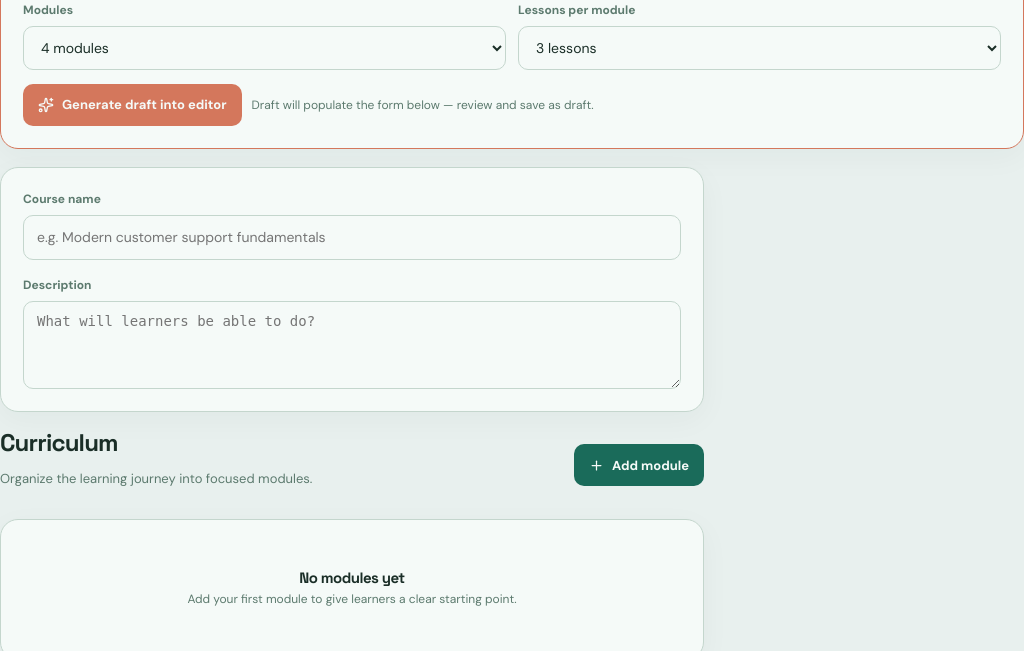
Test: CourseManagementPage › CourseEditor - save and publish › asks to save first before attaching files to a new lesson
(page scrolled)
Expected: the field with placeholder "e.g. Modern customer support fundamentals" is shown, top-left (23, 215), bottom-right (681, 260)
Click the button "Add module".
click(639, 465)  # box top-left (574, 444), bottom-right (704, 486)
(page scrolled)
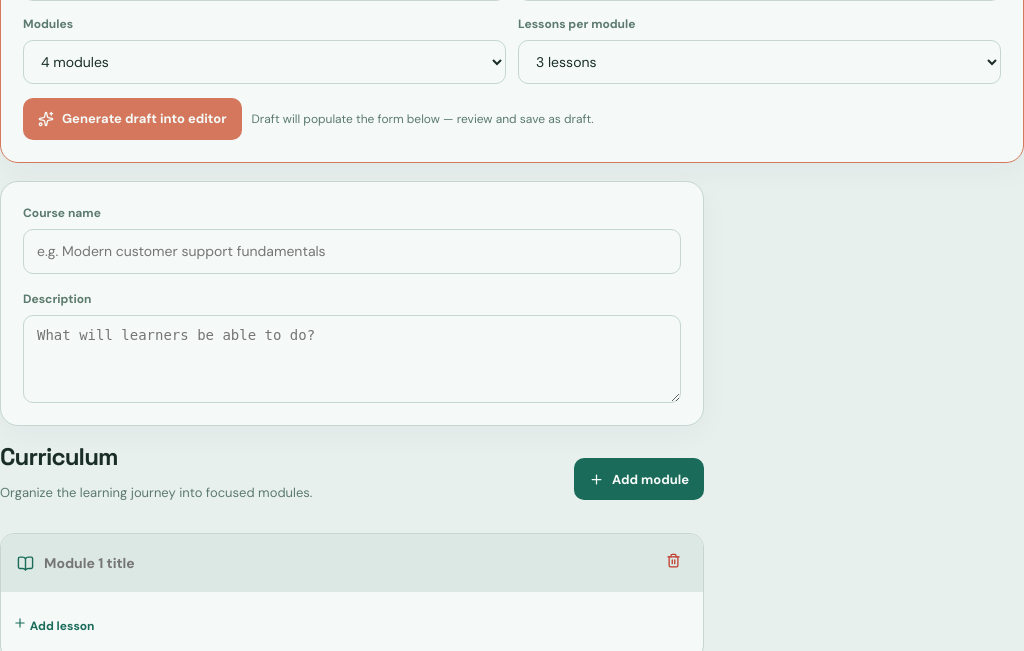
Click the button "Add lesson".
click(54, 626)  # box top-left (13, 604), bottom-right (94, 647)
(page scrolled)
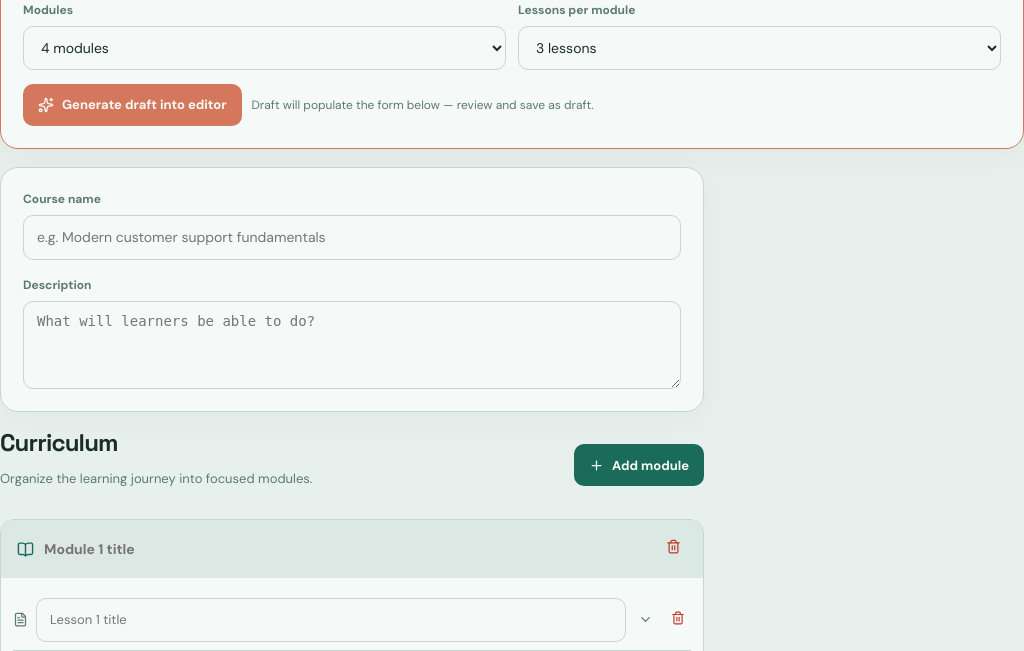
Click the button named "Toggle content for lesson 1".
click(646, 620)  # box top-left (634, 608), bottom-right (657, 631)
(page scrolled)
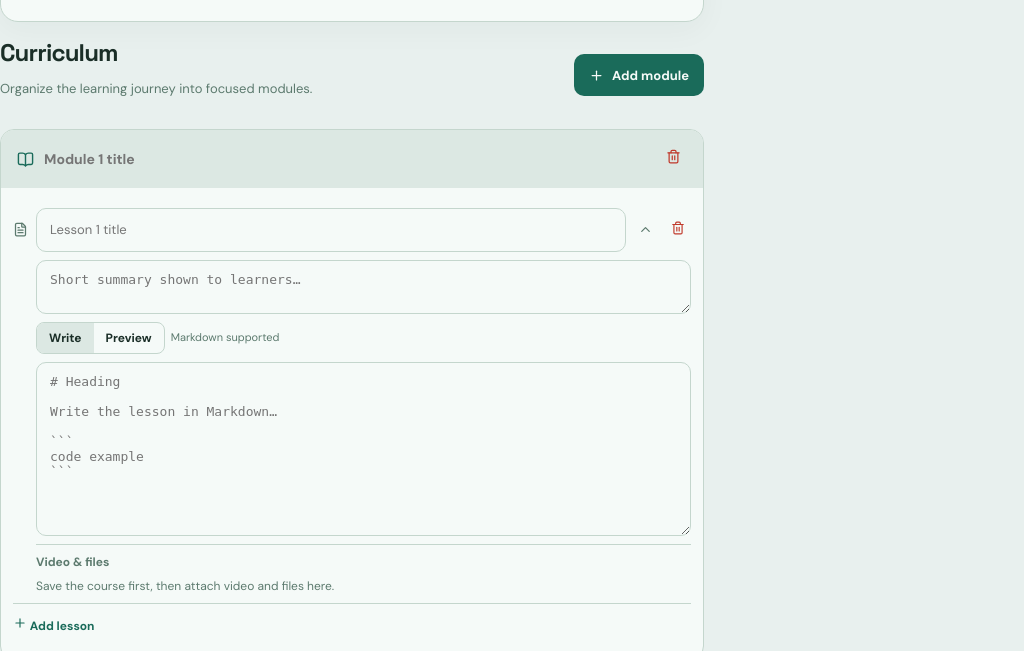
Now the text "Save the course first, then attach video and files here." is shown, box top-left (36, 578), bottom-right (334, 594)
